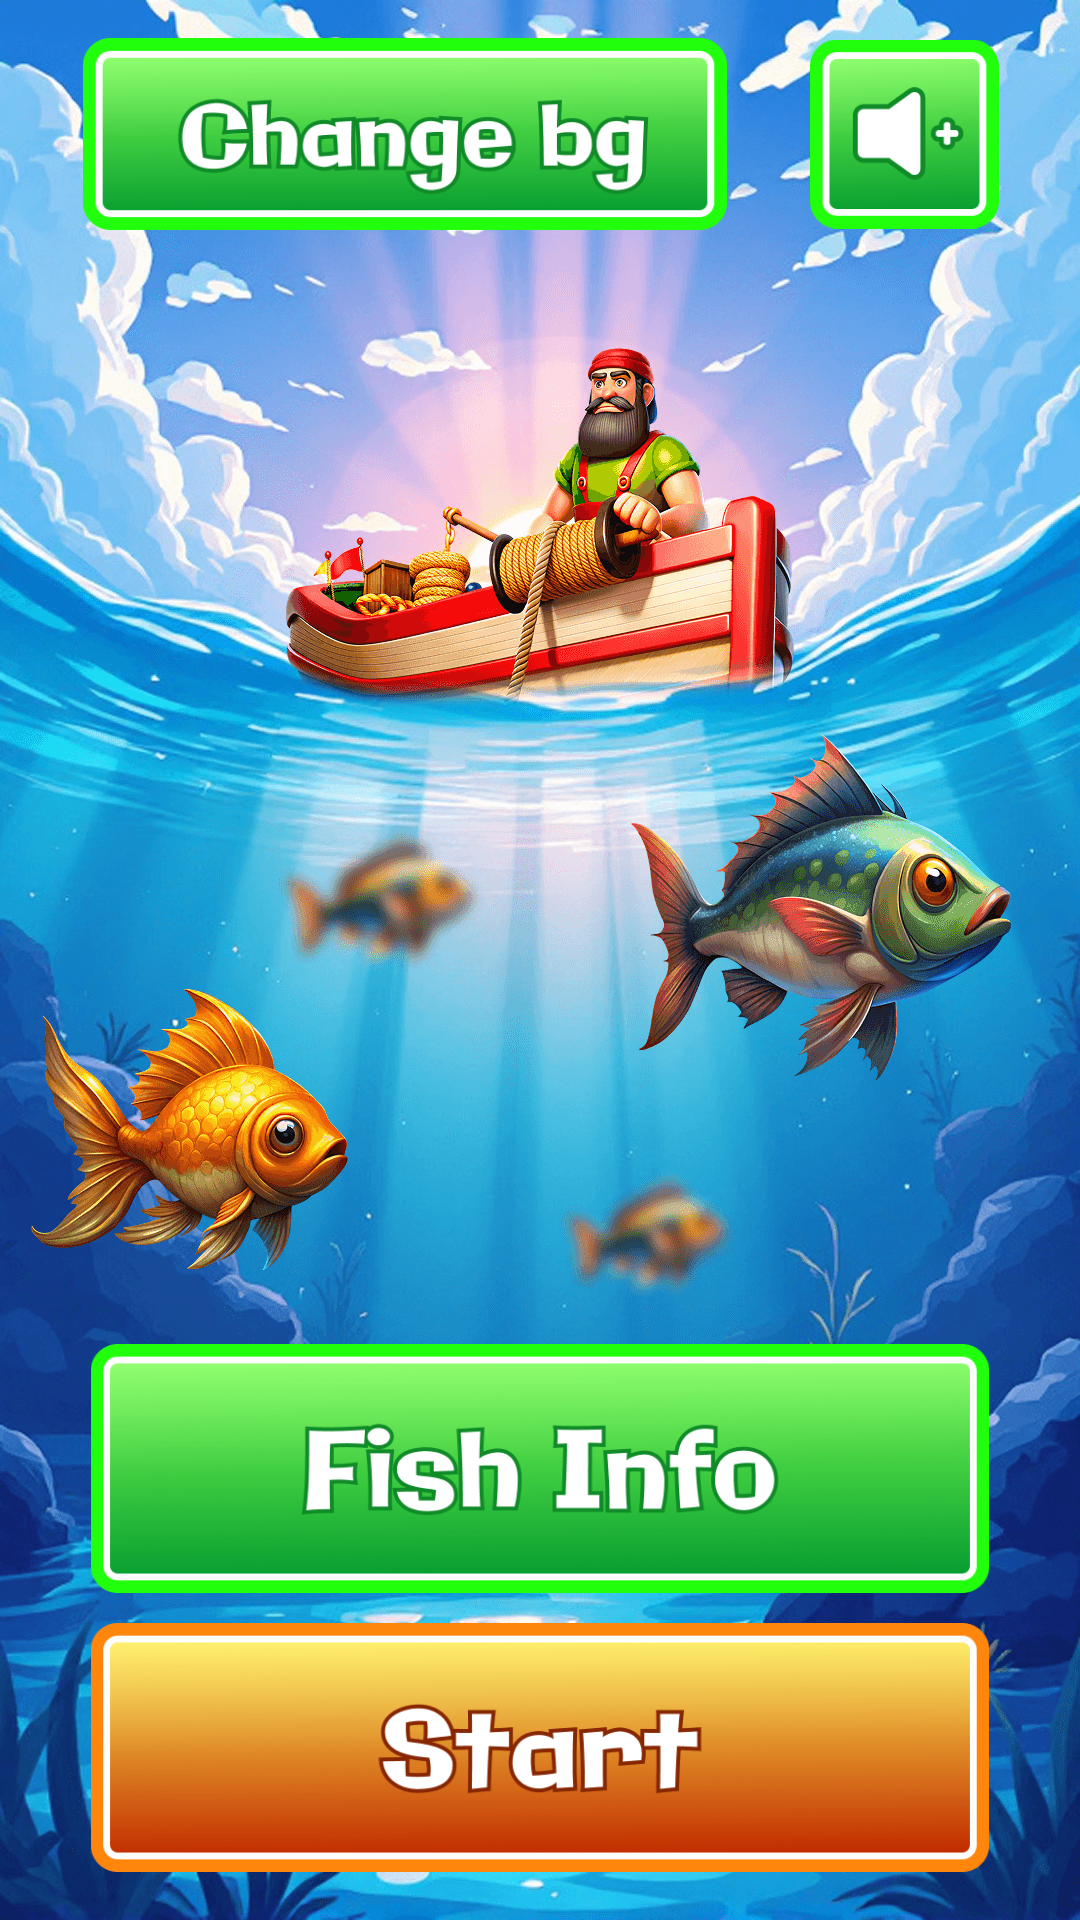

Where to tap for icons on this 1080x1920 app screen, as (x,y):
music on: (904,134)
